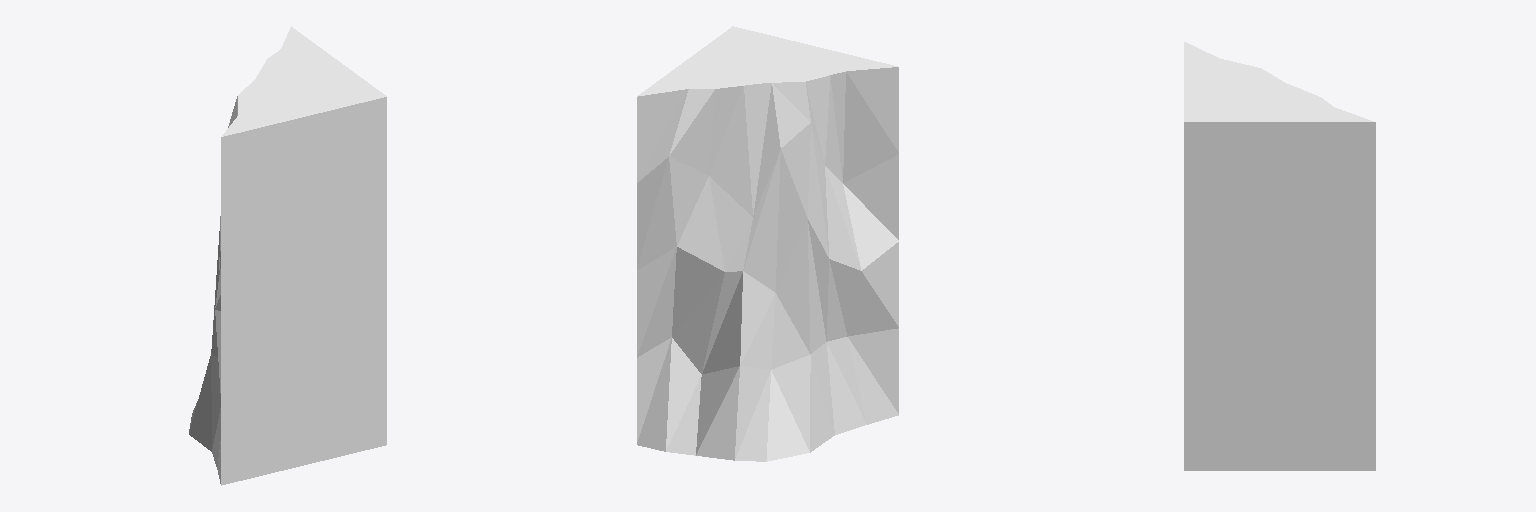
Rendered from Wall Ext Corner 001.obj.
3 renders of one model, left to right at view 1: azimuth 30°, elevation 25°; view 2: azimuth 150°, elevation 25°; view 3: azimuth 270°, elevation 25°, orthographic.
Visible parts, largest first — view 1: Wall Ext Corner 001; view 2: Wall Ext Corner 001; view 3: Wall Ext Corner 001.
Boxes of the visible parts, x1,y1,x2,y2 form: Wall Ext Corner 001: [189, 26, 386, 485]; Wall Ext Corner 001: [637, 26, 898, 461]; Wall Ext Corner 001: [1184, 42, 1375, 470].
Bounding box in the file's own units: 28 × 56 × 28.04.